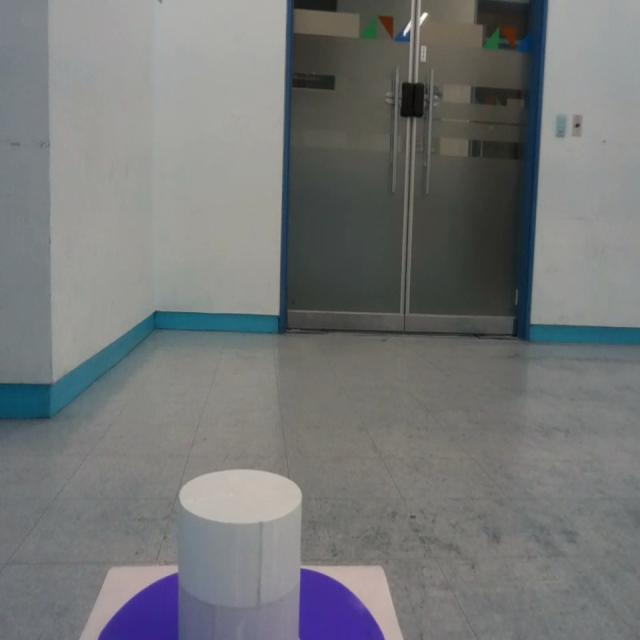cylinder: (176, 469, 303, 639)
